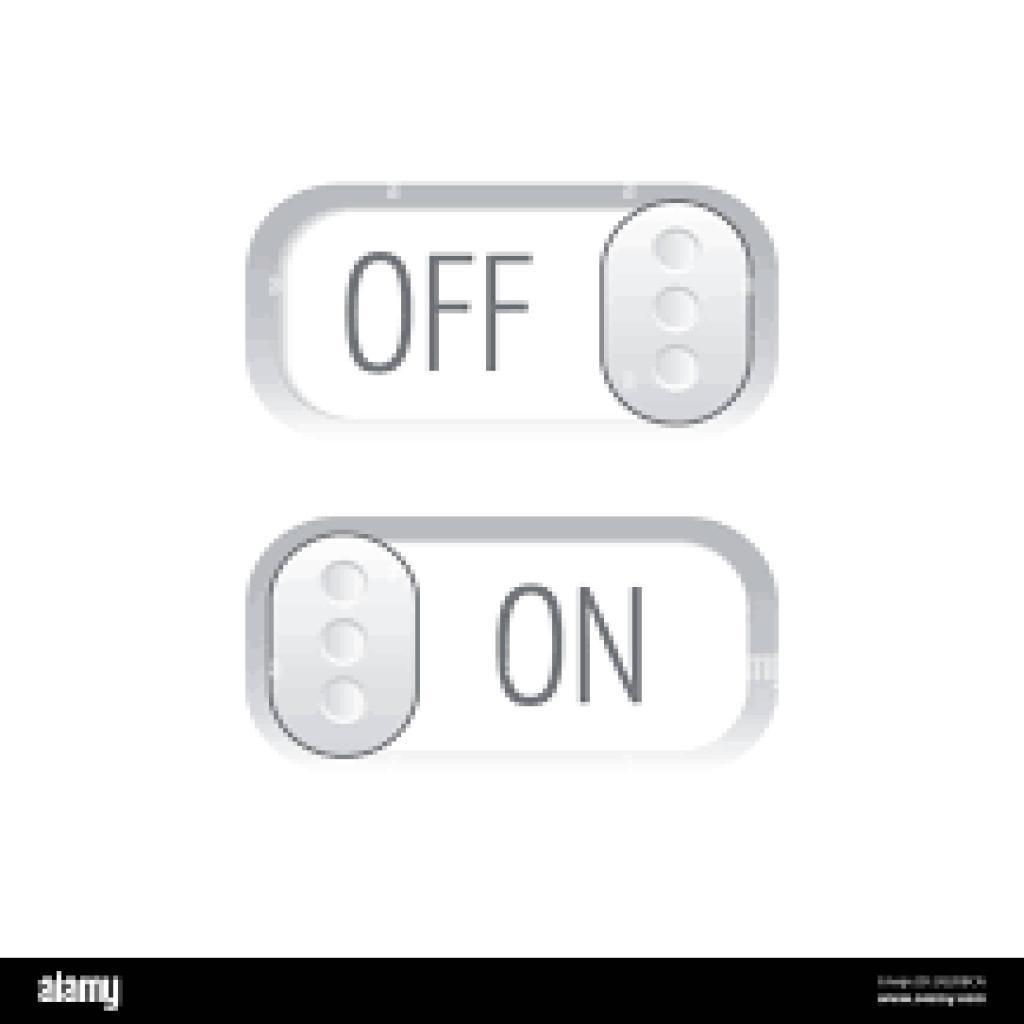switch: (243, 182, 783, 441), (248, 518, 781, 767)
